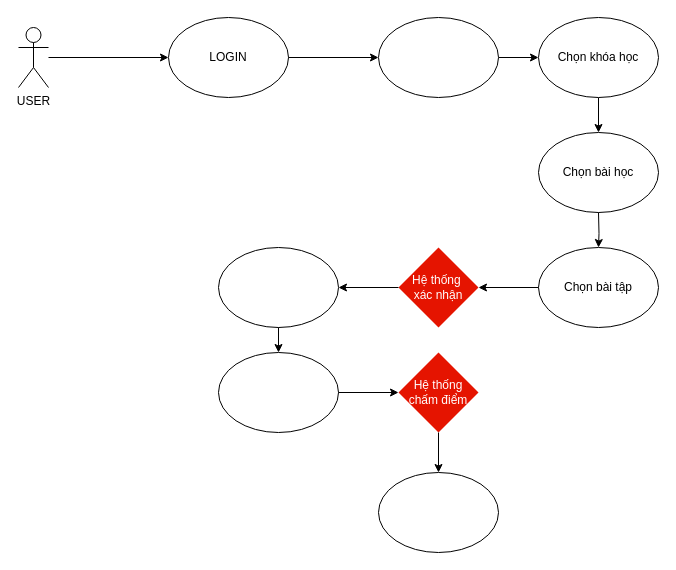
Some shapes in this 676 by 570 pixel diagram are drawn without their labels. Here are the shapes that lost their labels. From the top down, the box of each, then its label:
(378, 16, 498, 98): Chọn ngôn ngữ
(218, 246, 338, 328): Hiển thị bài tập
(218, 352, 338, 432): Làm bài tập và Nộp bài
(378, 472, 498, 552): Hiển thị điểm số và đáp án đúng
